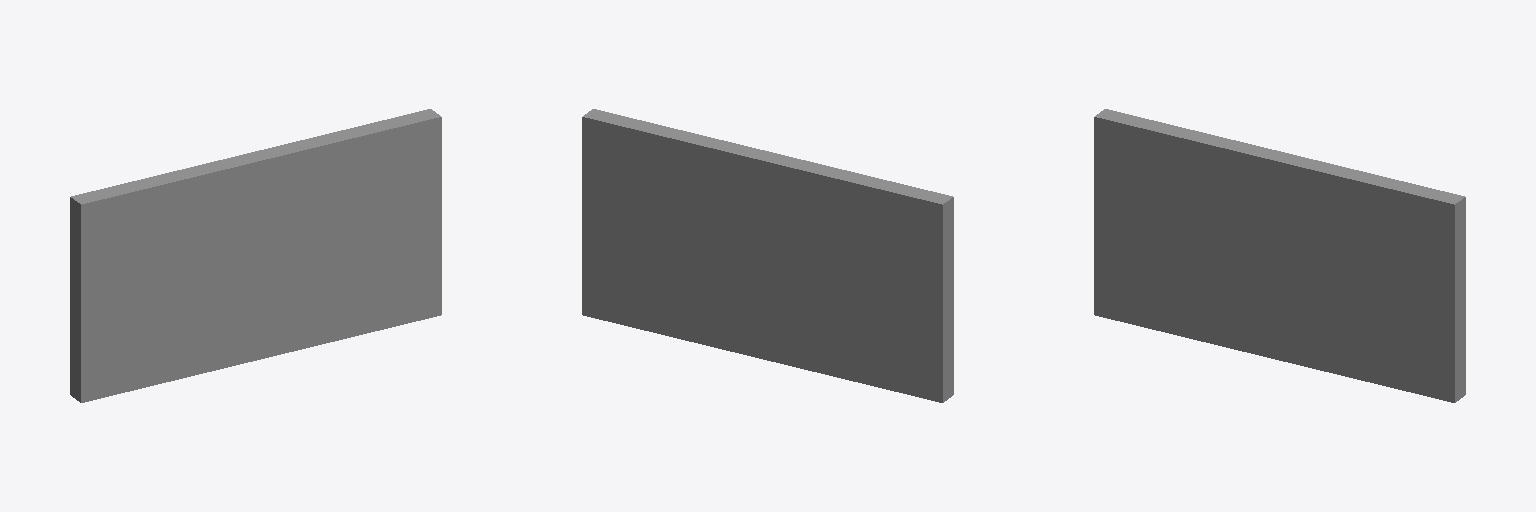
The model's file is flag.obj.
3 views of the same model, side by side, from view 1: azimuth 30°, elevation 25°; view 2: azimuth 150°, elevation 25°; view 3: azimuth 330°, elevation 25° (orthographic).
Parts seen in each view (by area): view 1: Cube; view 2: Cube; view 3: Cube.
Part boxes in pixels (bbox=[...]): Cube: bbox=[70, 109, 441, 402]; Cube: bbox=[582, 109, 953, 402]; Cube: bbox=[1094, 109, 1465, 402].
Size of the model in its own units: 3.8 by 2 by 0.2.